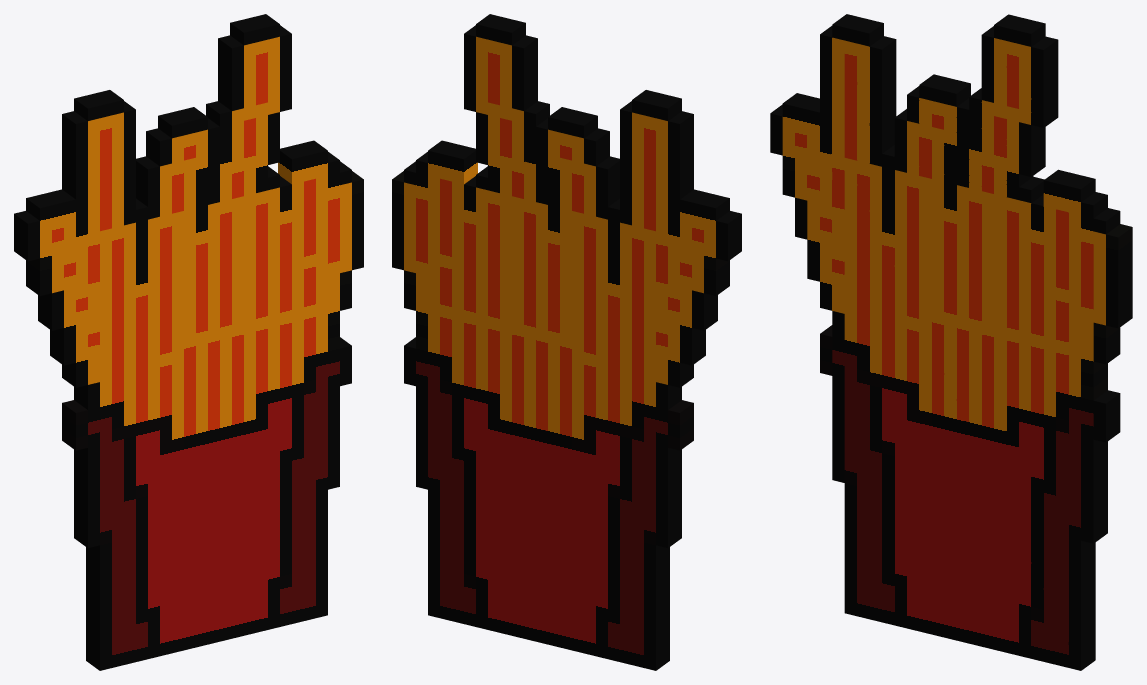
The model's file is 27-potatoes.gltf.
3 renders of one model, left to right at view 1: azimuth 30°, elevation 25°; view 2: azimuth 150°, elevation 25°; view 3: azimuth 330°, elevation 25°, orthographic. The views are drawn at different scales.
Parts seen in each view (by area): view 1: Content-Mesh; view 2: Content-Mesh; view 3: Content-Mesh.
Boxes of the visible parts, x1,y1,x2,y2 form: Content-Mesh: [14, 14, 363, 670]; Content-Mesh: [392, 14, 741, 670]; Content-Mesh: [770, 14, 1132, 670].
Size of the model in its own units: 28 by 48 by 2.
Materials: 1 (1 with a texture image).
